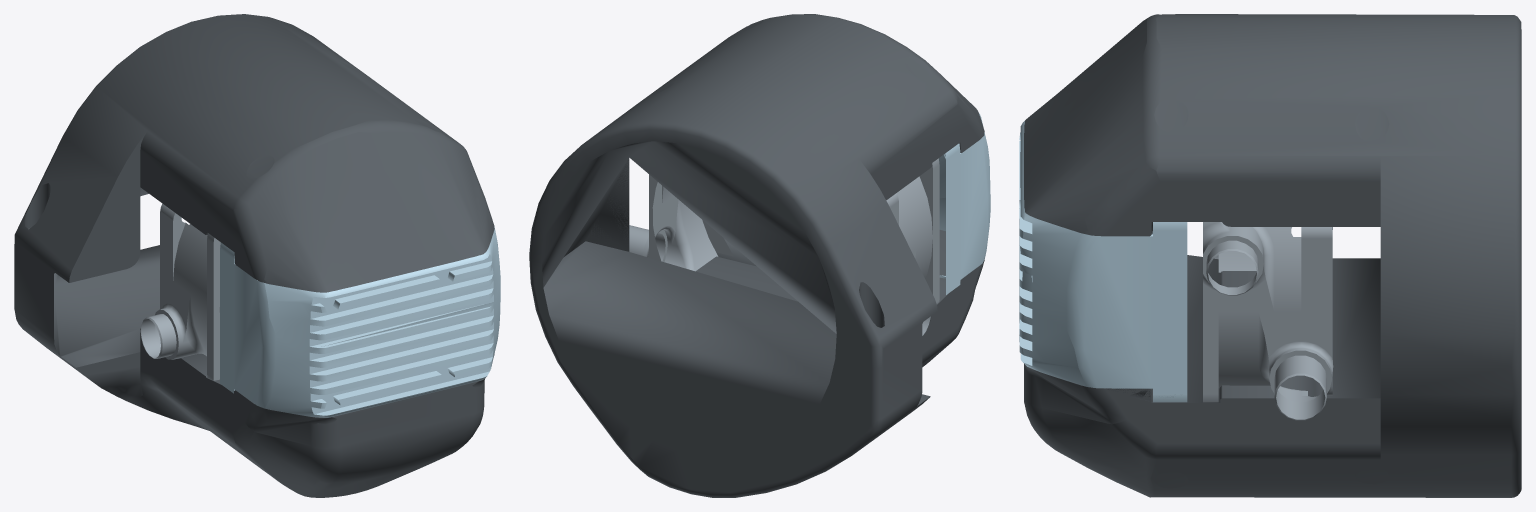
File: LeftWristRollLink.obj
3 renders of one model, left to right at view 1: azimuth 30°, elevation 25°; view 2: azimuth 150°, elevation 25°; view 3: azimuth 270°, elevation 25°, orthographic. The views are drawn at different scales.
Parts seen in each view (by area): view 1: N17_24_P03_09_L_Wrist_Link_Cover_Outside, N17_24_P03_08_L_Wrist_Link_Cover_Inside, N17_24_P03_06_Wrist_heatsink, N17_24_P04_01_L_Motor_housing_wrist_twist; view 2: N17_24_P03_09_L_Wrist_Link_Cover_Outside, N17_24_P03_08_L_Wrist_Link_Cover_Inside, N17_24_P04_01_L_Motor_housing_wrist_twist, N17_24_P03_06_Wrist_heatsink; view 3: N17_24_P03_09_L_Wrist_Link_Cover_Outside, N17_24_P03_08_L_Wrist_Link_Cover_Inside, N17_24_P03_06_Wrist_heatsink, N17_24_P04_01_L_Motor_housing_wrist_twist.
Boxes of the visible parts, x1,y1,x2,y2 form: N17_24_P03_09_L_Wrist_Link_Cover_Outside: (14, 14, 494, 292); N17_24_P03_08_L_Wrist_Link_Cover_Inside: (14, 245, 494, 497); N17_24_P03_06_Wrist_heatsink: (220, 226, 500, 417); N17_24_P04_01_L_Motor_housing_wrist_twist: (140, 203, 220, 380); N17_24_P03_09_L_Wrist_Link_Cover_Outside: (529, 14, 984, 368); N17_24_P03_08_L_Wrist_Link_Cover_Inside: (531, 230, 984, 497); N17_24_P04_01_L_Motor_housing_wrist_twist: (629, 158, 939, 335); N17_24_P03_06_Wrist_heatsink: (938, 113, 990, 294); N17_24_P03_09_L_Wrist_Link_Cover_Outside: (1024, 14, 1521, 366); N17_24_P03_08_L_Wrist_Link_Cover_Inside: (1024, 255, 1521, 497); N17_24_P03_06_Wrist_heatsink: (1019, 121, 1187, 402); N17_24_P04_01_L_Motor_housing_wrist_twist: (1203, 222, 1333, 420).
Size of the model in its own units: 0.094 by 0.0935 by 0.0957.
